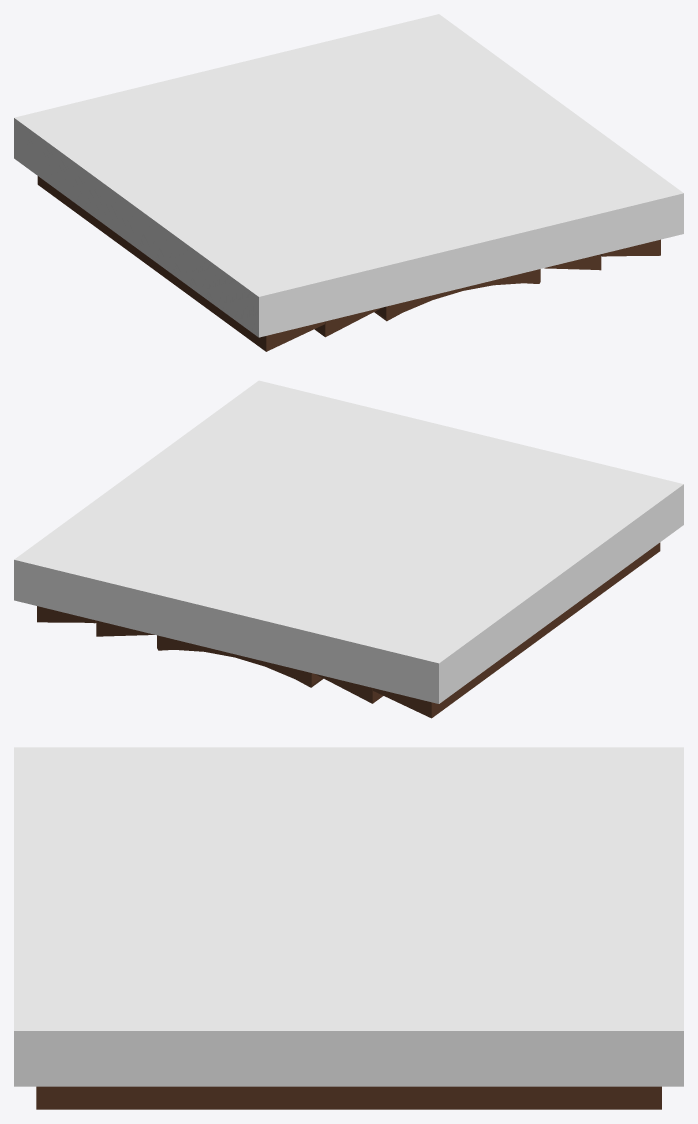
3 renders of one model, top to bottom at view 1: azimuth 30°, elevation 25°; view 2: azimuth 150°, elevation 25°; view 3: azimuth 270°, elevation 25°, orthographic. The views are drawn at different scales.
Visible parts, largest first — view 1: H2_UpImpluvium, MainModel:0; view 2: H2_UpImpluvium, MainModel:0; view 3: H2_UpImpluvium, MainModel:0.
Part boxes in pixels (<box>): H2_UpImpluvium: <box>14,14,683,337</box>; MainModel:0: <box>37,176,660,351</box>; H2_UpImpluvium: <box>14,380,683,703</box>; MainModel:0: <box>37,542,660,718</box>; H2_UpImpluvium: <box>14,747,683,1086</box>; MainModel:0: <box>36,1086,661,1109</box>.
Size of the model in its own units: 1.66 by 0.2427 by 1.66.
